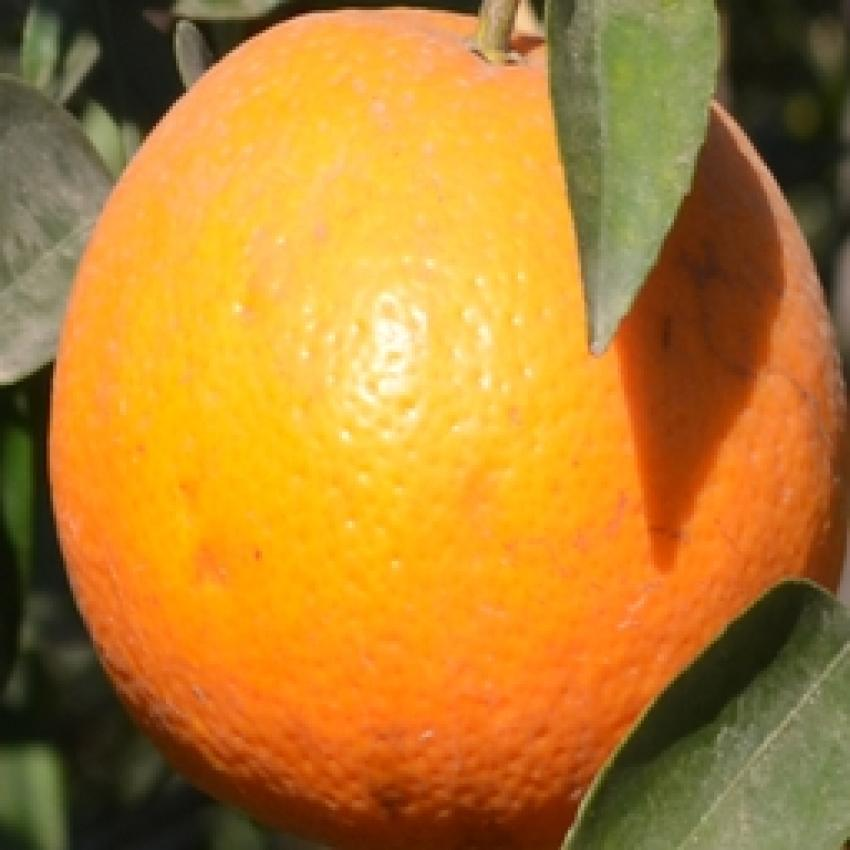Buen estado: (43, 0, 846, 847)
